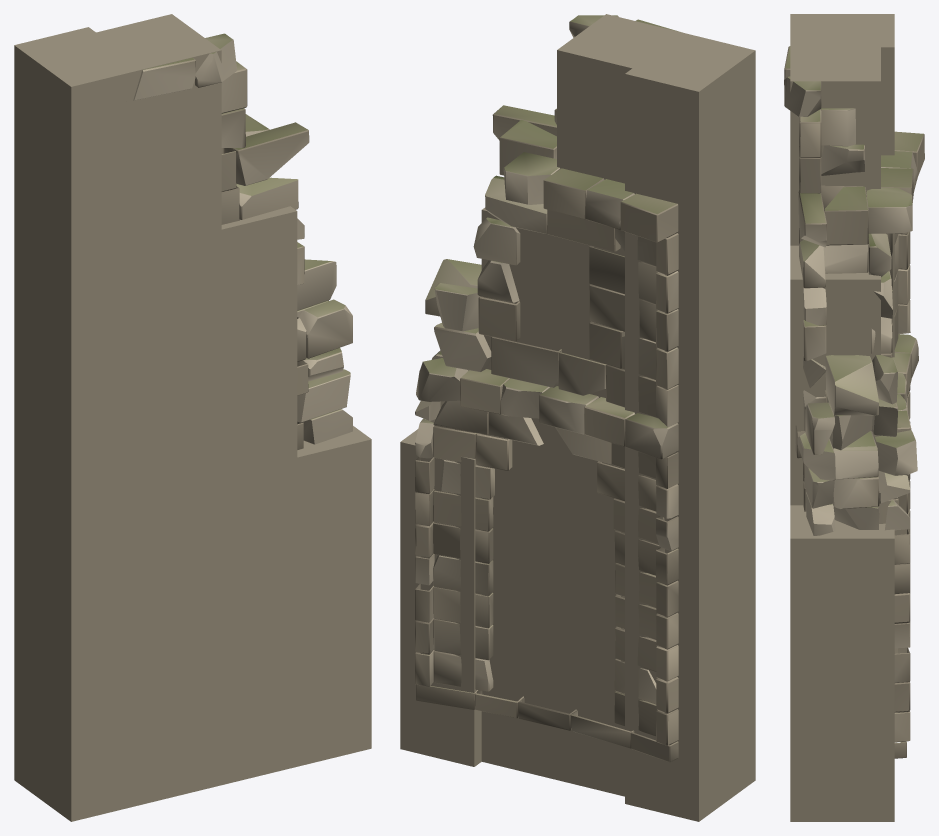
Rendered from dome_drum_bm2.glb.
3 renders of one model, left to right at view 1: azimuth 30°, elevation 25°; view 2: azimuth 150°, elevation 25°; view 3: azimuth 270°, elevation 25°, orthographic. The views are drawn at different scales.
Visible parts, largest first — view 1: dome_drum_bm2_far, dome_drum_bm2; view 2: dome_drum_bm2_far, dome_drum_bm2; view 3: dome_drum_bm2_far, dome_drum_bm2.
Part boxes in pixels (x1=…): dome_drum_bm2_far: x1=14, y1=14, x2=371, y2=821; dome_drum_bm2: x1=133, y1=33, x2=352, y2=449; dome_drum_bm2_far: x1=400, y1=14, x2=755, y2=821; dome_drum_bm2: x1=415, y1=15, x2=682, y2=762; dome_drum_bm2_far: x1=790, y1=14, x2=894, y2=821; dome_drum_bm2: x1=784, y1=46, x2=924, y2=758.
Size of the model in its own units: 21.4 by 50 by 9.47.
